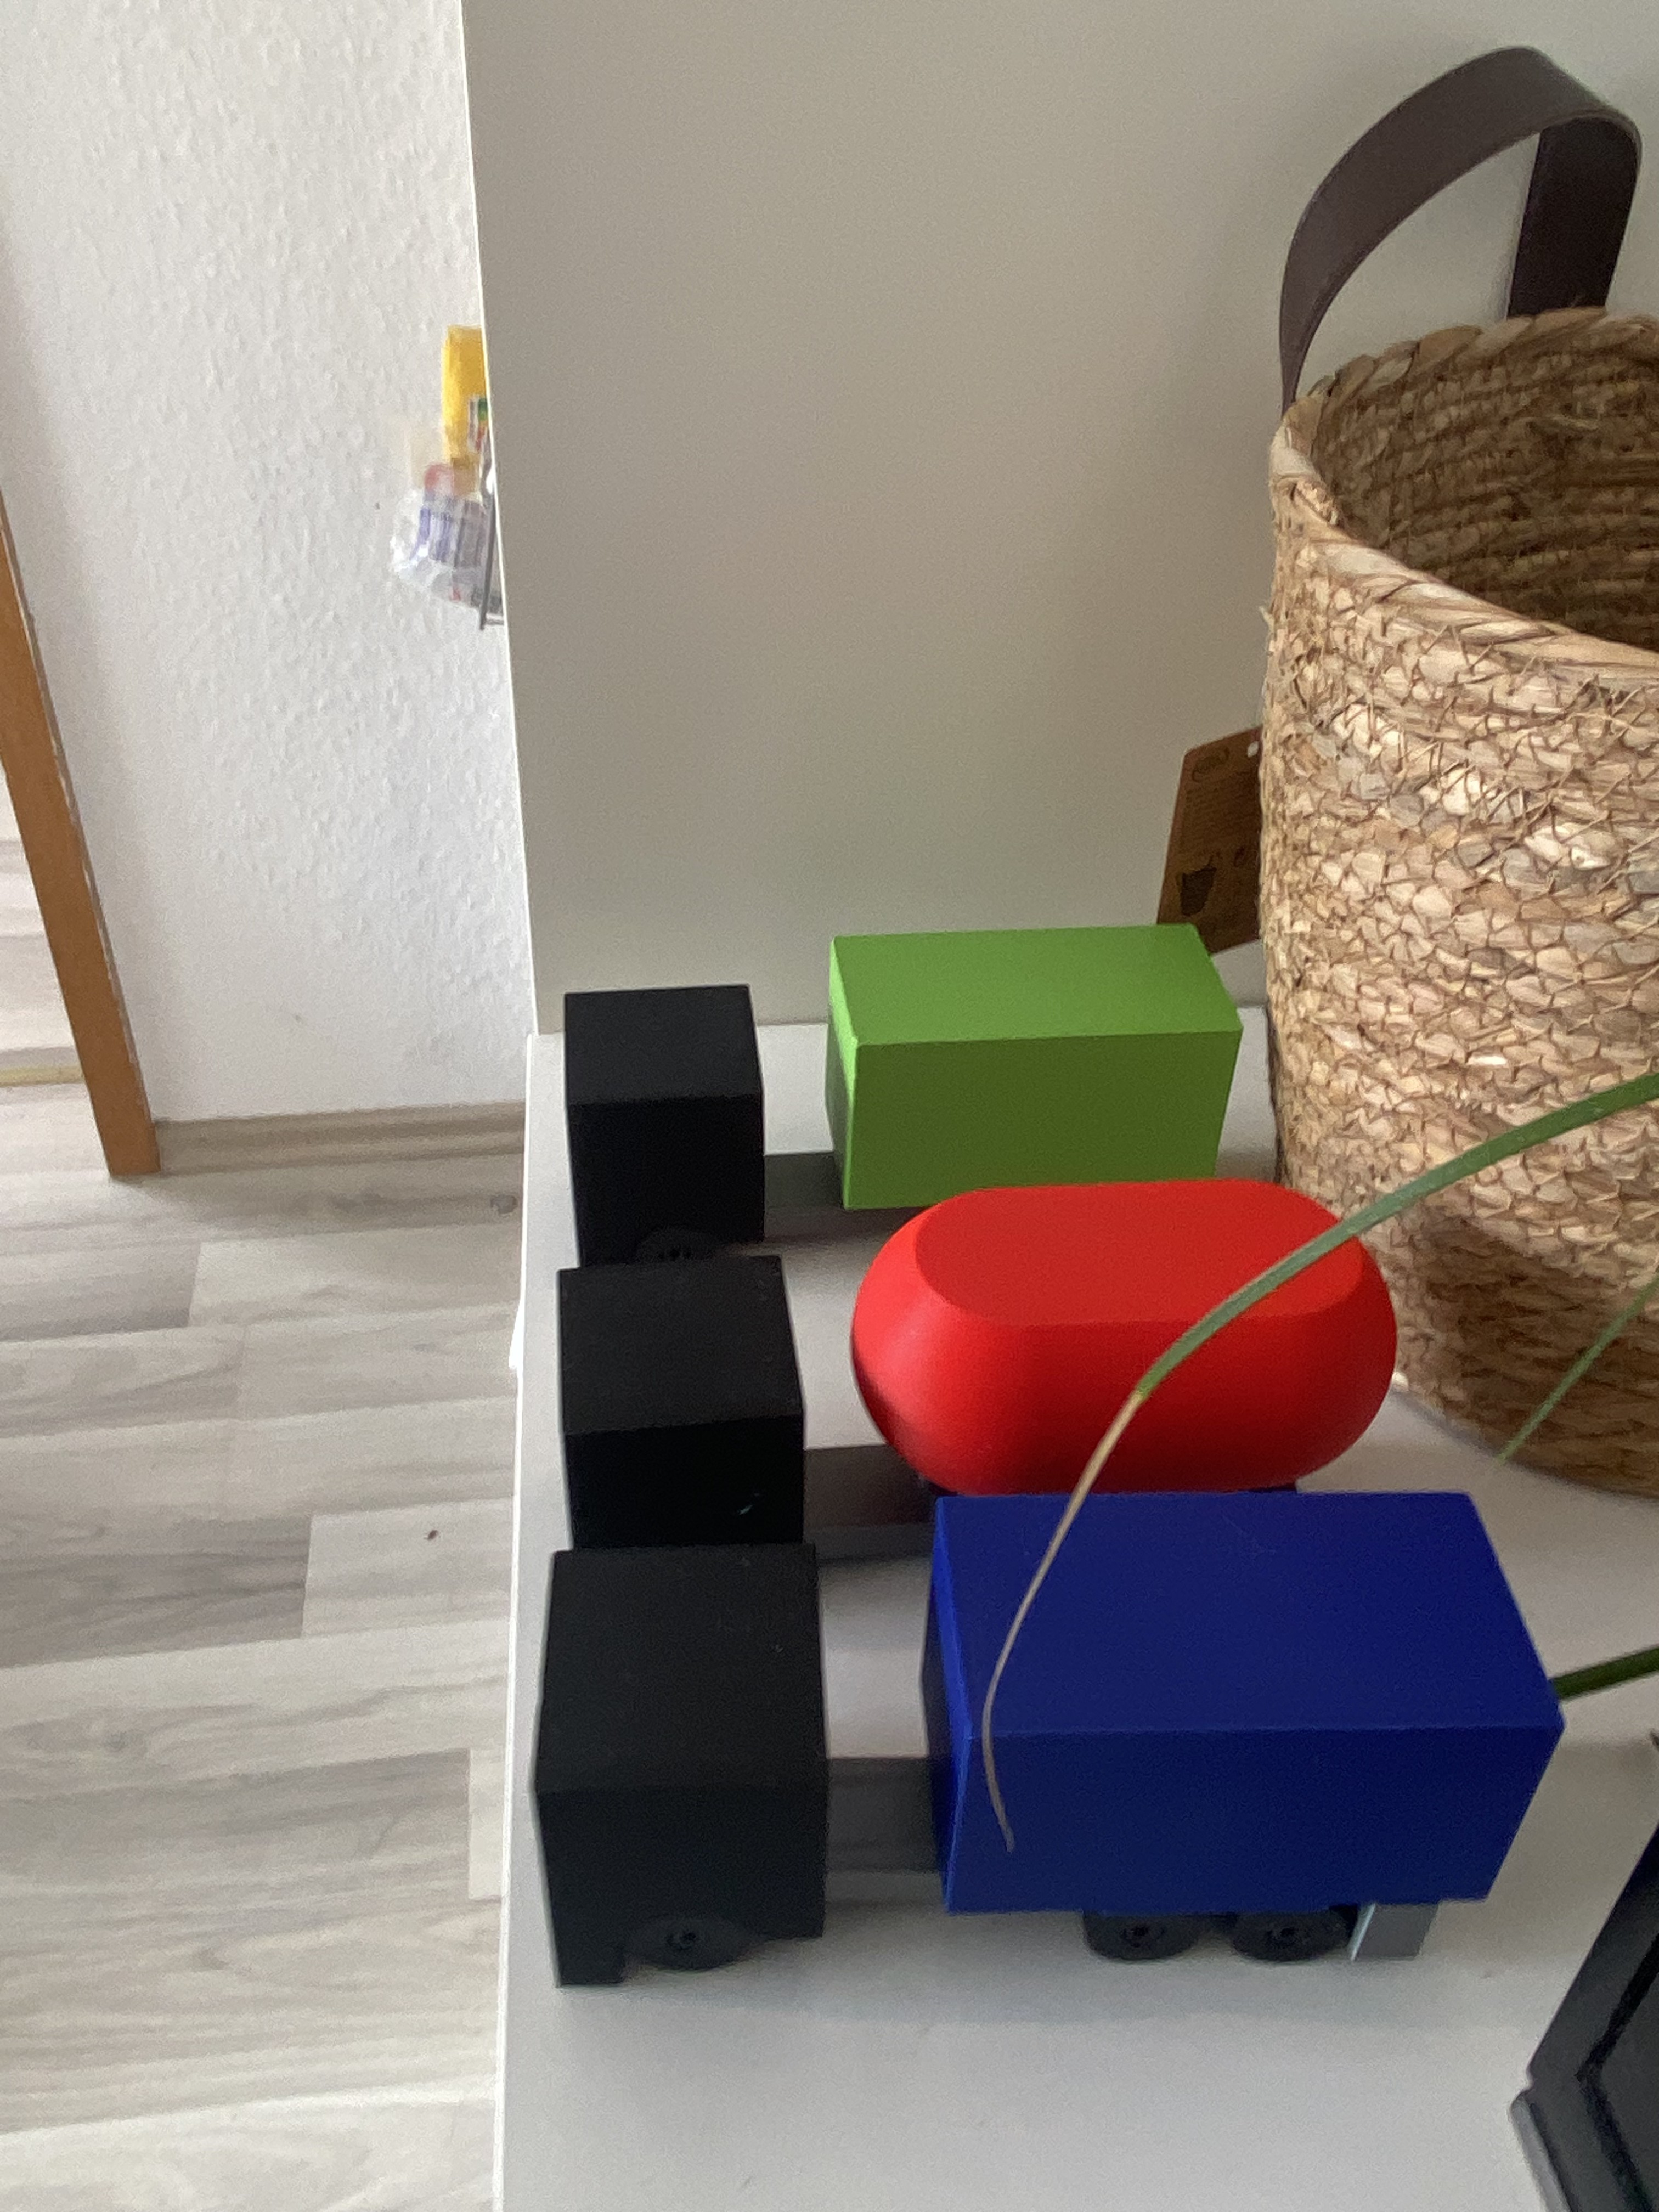blue_truck: (530, 1514, 1560, 1989)
green_truck: (760, 738, 1037, 1418)
red_truck: (540, 1188, 1391, 1529)
